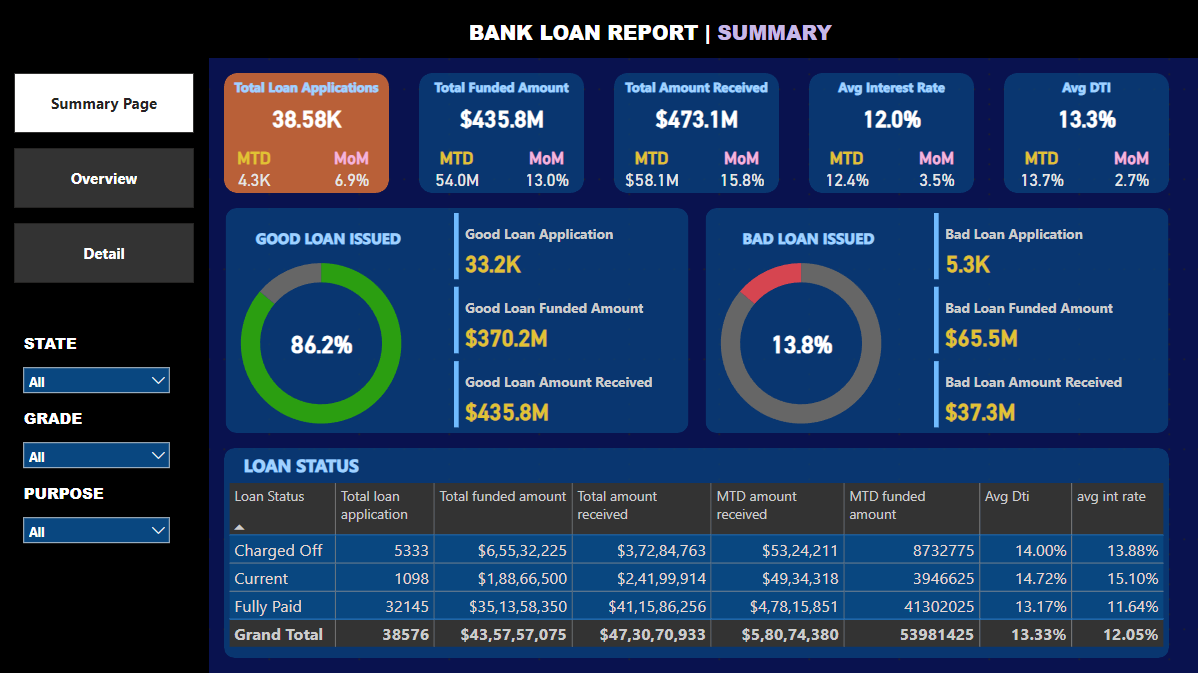

What the dashboard file says about the page in this screenshot:
{"tool":"powerbi","page":{"name":"Summary Page","canvas":[1280,720],"ordinal":0},"visuals":[{"type":"shape","box":[0,0,224,720],"z":0},{"type":"shape","box":[240,80,176,128],"z":0,"group":"g1"},{"type":"shape","box":[448,80,176,128],"z":0,"group":"g2"},{"type":"shape","box":[656,80,176,128],"z":0,"group":"g3"},{"type":"shape","box":[864,80,176,128],"z":0,"group":"g4"},{"type":"shape","box":[1072,80,176,128],"z":0,"group":"g5"},{"type":"shape","box":[241,224,493.9,240],"z":0,"group":"g6"},{"type":"shape","box":[753,224,493.9,240],"z":0,"group":"g7"},{"type":"donutChart","fields":{"Category":["bank_loan.good v bad loan"],"Y":["bank_loan.Total loan application"]},"box":[224,256,238.5,224],"z":1000,"group":"g6"},{"type":"donutChart","fields":{"Category":["bank_loan.good v bad loan"],"Y":["bank_loan.Total loan application"]},"box":[736,256,238.5,224],"z":1000,"group":"g7"},{"type":"shape","box":[240,480,1008,224],"z":1000},{"type":"textbox","box":[16,512,176,32],"z":2000},{"type":"shape","box":[0,0,1280,64],"z":3000},{"type":"card","fields":{"Values":["bank_loan.Total loan application"]},"box":[272,112,112,32],"z":4000,"group":"g1"},{"type":"card","fields":{"Values":["bank_loan.Total funded amount"]},"box":[480,112,112,32],"z":4000,"group":"g2"},{"type":"card","fields":{"Values":["bank_loan.Total amount received"]},"box":[688,112,112,32],"z":4000,"group":"g3"},{"type":"card","fields":{"Values":["bank_loan.avg int rate"]},"box":[896,112,112,32],"z":4000,"group":"g4"},{"type":"card","fields":{"Values":["bank_loan.Avg Dti"]},"box":[1104,112,112,32],"z":4000,"group":"g5"},{"type":"slicer","fields":{"Values":["bank_loan.purpose"]},"box":[16,544,176,48],"z":4000},{"type":"textbox","box":[496,16,416,48],"z":5000},{"type":"textbox","box":[240,80,176,32],"z":5000,"group":"g1"},{"type":"textbox","box":[448,80,176,32],"z":5000,"group":"g2"},{"type":"textbox","box":[656,80,176,32],"z":5000,"group":"g3"},{"type":"textbox","box":[864,80,176,32],"z":5000,"group":"g4"},{"type":"textbox","box":[1072,80,176,32],"z":5000,"group":"g5"},{"type":"group","id":"g1","title":"Group 1","box":[240,80,176,128],"z":6000},{"type":"card","title":"MTD","fields":{"Values":["bank_loan.MTD loan application"]},"box":[240,160,64,48],"z":6000,"group":"g1"},{"type":"card","title":"MTD","fields":{"Values":["bank_loan.MTD funded amount"]},"box":[448,160,80,48],"z":6000,"group":"g2"},{"type":"card","title":"MTD","fields":{"Values":["bank_loan.MTD amount received"]},"box":[656,160,80,48],"z":6000,"group":"g3"},{"type":"card","title":"MTD","fields":{"Values":["bank_loan.MTD int rate"]},"box":[864,160,80,48],"z":6000,"group":"g4"},{"type":"card","title":"MTD","fields":{"Values":["bank_loan.MTD dti"]},"box":[1072,160,80,48],"z":6000,"group":"g5"},{"type":"textbox","box":[258.1,240,187.4,32],"z":6000,"group":"g6"},{"type":"textbox","box":[770.1,240,187.4,32],"z":6000,"group":"g7"},{"type":"group","id":"g2","title":"Group 2","box":[448,80,176,128],"z":7000},{"type":"card","title":"MoM","fields":{"Values":["bank_loan.mom loan application"]},"box":[352,160,48,48],"z":7000,"group":"g1"},{"type":"card","title":"MoM","fields":{"Values":["bank_loan.mom funded amount"]},"box":[544,160,80,48],"z":7000,"group":"g2"},{"type":"card","title":"MoM","fields":{"Values":["bank_loan.mom amount received"]},"box":[752,160,80,48],"z":7000,"group":"g3"},{"type":"card","title":"MoM","fields":{"Values":["bank_loan.mom int rate"]},"box":[960,160,80,48],"z":7000,"group":"g4"},{"type":"card","title":"MoM","fields":{"Values":["bank_loan.mom dti"]},"box":[1168,160,80,48],"z":7000,"group":"g5"},{"type":"group","id":"g3","title":"Group 2","box":[656,80,176,128],"z":8000},{"type":"card","fields":{"Values":["bank_loan.Good loan %"]},"box":[292.1,352,102.2,32],"z":8000,"group":"g6"},{"type":"card","fields":{"Values":["bank_loan.Bad loan %"]},"box":[804.1,352,102.2,32],"z":8000,"group":"g7"},{"type":"textbox","box":[256,480,160,48],"z":9000},{"type":"group","id":"g4","title":"Group 2","box":[864,80,176,128],"z":10000},{"type":"group","id":"g5","title":"Group 2","box":[1072,80,176,128],"z":11000},{"type":"group","id":"g6","title":"Group 3","box":[224,224,528,256],"z":12000},{"type":"cardVisual","fields":{"Data":["bank_loan.Good application","bank_loan.Good funded amount","bank_loan.Good amount rec"]},"box":[479.5,224,272.5,240],"z":13000,"group":"g6"},{"type":"group","id":"g7","title":"Group 3","box":[736,224,528,256],"z":13000},{"type":"cardVisual","fields":{"Data":["bank_loan.Bad Loan Application","bank_loan.Bad Loan Funded Amount","bank_loan.Bad Loan Amount Received"]},"box":[991.5,224,272.5,240],"z":13000,"group":"g7"},{"type":"tableEx","fields":{"Values":["bank_loan.loan_status","bank_loan.Total loan application","bank_loan.Total funded amount","bank_loan.Total amount received","bank_loan.MTD amount received","bank_loan.MTD funded amount","bank_loan.Avg Dti","bank_loan.avg int rate"]},"box":[240,512,1008,192],"z":14000},{"type":"textbox","box":[16,352,80,32],"z":15000},{"type":"textbox","box":[16,432,160,48],"z":16000},{"type":"slicer","fields":{"Values":["bank_loan.address_state"]},"box":[16,384,176,48],"z":17000},{"type":"slicer","fields":{"Values":["bank_loan.grade"]},"box":[16,464,176,48],"z":18000},{"type":"pageNavigator","box":[16,80,192,224],"z":19000}]}

Visuals, with their boxes in screenshot pixels (x1, y1, x2, y2), scaled from the page's 1280x720 canvas onto the 1198x673 screenshot:
shape: detection(0, 0, 210, 672)
shape: detection(225, 75, 389, 194)
shape: detection(419, 75, 584, 194)
shape: detection(614, 75, 779, 194)
shape: detection(809, 75, 973, 194)
shape: detection(1003, 75, 1168, 194)
shape: detection(226, 209, 688, 434)
shape: detection(705, 209, 1167, 434)
donutChart - bank_loan.good v bad loan x bank_loan.Total loan application: detection(210, 239, 433, 449)
donutChart - bank_loan.good v bad loan x bank_loan.Total loan application: detection(689, 239, 912, 449)
shape: detection(225, 449, 1168, 658)
textbox: detection(15, 479, 180, 508)
shape: detection(0, 0, 1197, 60)
card - bank_loan.Total loan application: detection(255, 105, 359, 135)
card - bank_loan.Total funded amount: detection(449, 105, 554, 135)
card - bank_loan.Total amount received: detection(644, 105, 749, 135)
card - bank_loan.avg int rate: detection(839, 105, 943, 135)
card - bank_loan.Avg Dti: detection(1033, 105, 1138, 135)
slicer - bank_loan.purpose: detection(15, 508, 180, 553)
textbox: detection(464, 15, 854, 60)
textbox: detection(225, 75, 389, 105)
textbox: detection(419, 75, 584, 105)
textbox: detection(614, 75, 779, 105)
textbox: detection(809, 75, 973, 105)
textbox: detection(1003, 75, 1168, 105)
"Group 1" group: detection(225, 75, 389, 194)
"MTD" card: detection(225, 150, 285, 194)
"MTD" card: detection(419, 150, 494, 194)
"MTD" card: detection(614, 150, 689, 194)
"MTD" card: detection(809, 150, 884, 194)
"MTD" card: detection(1003, 150, 1078, 194)
textbox: detection(242, 224, 417, 254)
textbox: detection(721, 224, 896, 254)
"Group 2" group: detection(419, 75, 584, 194)
"MoM" card: detection(329, 150, 374, 194)
"MoM" card: detection(509, 150, 584, 194)
"MoM" card: detection(704, 150, 779, 194)
"MoM" card: detection(898, 150, 973, 194)
"MoM" card: detection(1093, 150, 1168, 194)
"Group 2" group: detection(614, 75, 779, 194)
card - bank_loan.Good loan %: detection(273, 329, 369, 359)
card - bank_loan.Bad loan %: detection(753, 329, 848, 359)
textbox: detection(240, 449, 389, 494)
"Group 2" group: detection(809, 75, 973, 194)
"Group 2" group: detection(1003, 75, 1168, 194)
"Group 3" group: detection(210, 209, 704, 449)
cardVisual - bank_loan.Good application x bank_loan.Good funded amount: detection(449, 209, 704, 434)
"Group 3" group: detection(689, 209, 1183, 449)
cardVisual - bank_loan.Bad Loan Application x bank_loan.Bad Loan Funded Amount: detection(928, 209, 1183, 434)
tableEx - bank_loan.loan_status x bank_loan.Total loan application: detection(225, 479, 1168, 658)
textbox: detection(15, 329, 90, 359)
textbox: detection(15, 404, 165, 449)
slicer - bank_loan.address_state: detection(15, 359, 180, 404)
slicer - bank_loan.grade: detection(15, 434, 180, 479)
pageNavigator: detection(15, 75, 195, 284)
